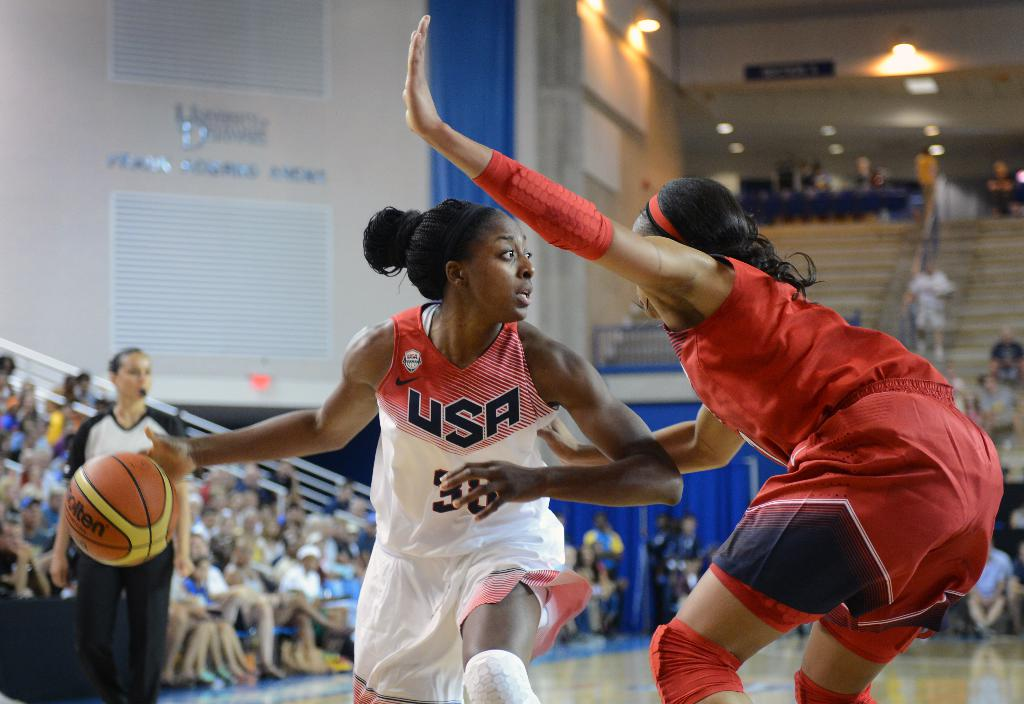Ball: (63, 451, 180, 566)
